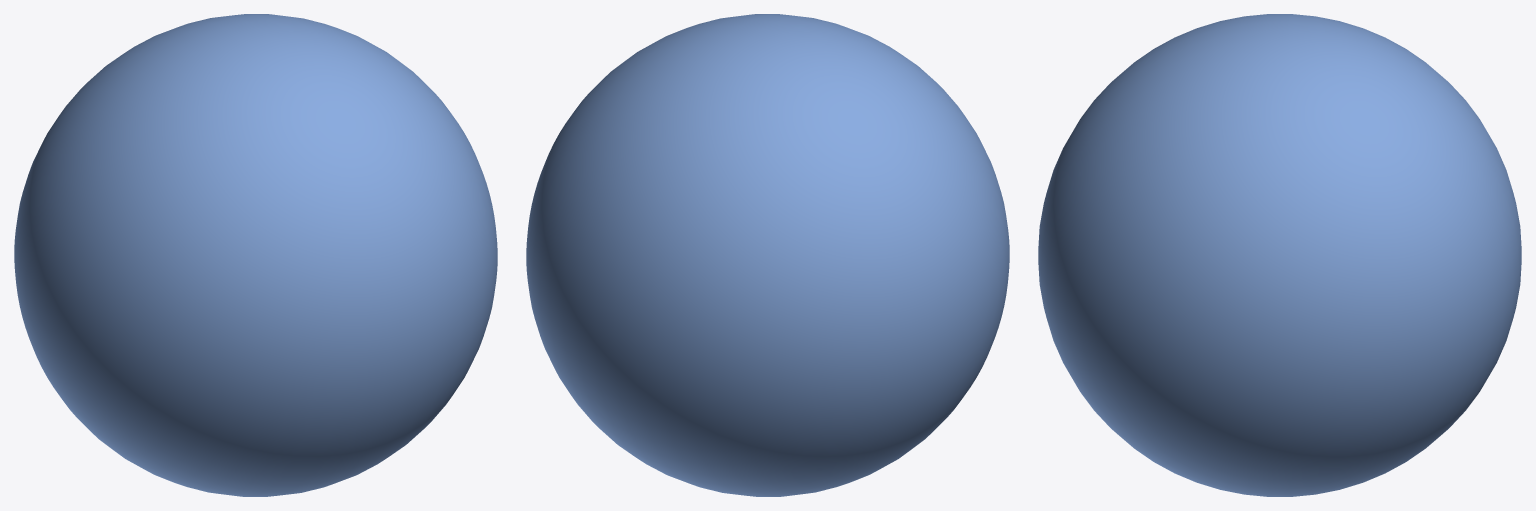
The model's file is _60355K291_Steel_Ball_Bearing_5.gltf.
The picture shows the model from 3 angles, left to right: view 1: azimuth 30°, elevation 25°; view 2: azimuth 150°, elevation 25°; view 3: azimuth 270°, elevation 25°; orthographic projection.
Parts seen in each view (by area): view 1: mesh56043; view 2: mesh56043; view 3: mesh56043.
Boxes of the visible parts, x1,y1,x2,y2 form: mesh56043: (14,14,497,496); mesh56043: (526,14,1009,496); mesh56043: (1038,14,1521,496).
Size of the model in its own units: 0.00476 by 0.00475 by 0.00476.
